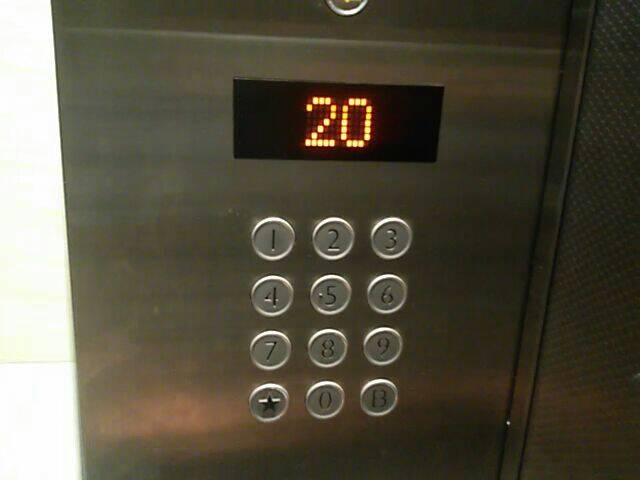0: (304, 378, 346, 420)
1: (250, 215, 297, 263)
2: (310, 215, 356, 262)
3: (368, 214, 414, 262)
4: (250, 274, 295, 319)
5: (309, 273, 352, 317)
6: (366, 272, 408, 315)
7: (249, 329, 293, 372)
8: (306, 327, 348, 368)
9: (361, 324, 404, 367)
B: (358, 376, 398, 418)
led: (232, 76, 444, 165)
s: (247, 381, 290, 424)
